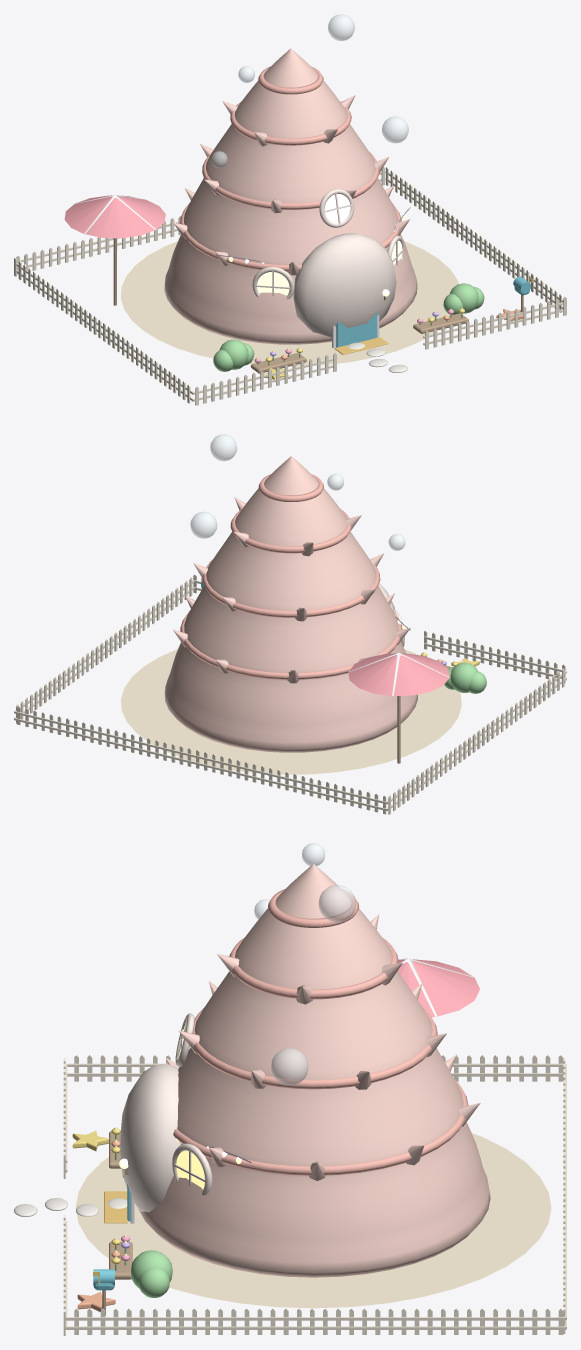
The model's file is building_ocean_L09.glb.
3 views of the same model, one above another, from view 1: azimuth 30°, elevation 25°; view 2: azimuth 150°, elevation 25°; view 3: azimuth 270°, elevation 25° (orthographic). The views are drawn at different scales.
Parts seen in each view (by area): view 1: Body, ocean_L9, object 2; view 2: Body, ocean_L9; view 3: Body, ocean_L9.
Boxes of the visible parts, x1=… form: Body: x1=64, y1=14, x2=522, y2=382; ocean_L9: x1=14, y1=166, x2=566, y2=405; object 2: x1=324, y1=194, x2=350, y2=223; Body: x1=121, y1=434, x2=479, y2=774; ocean_L9: x1=14, y1=574, x2=566, y2=814; Body: x1=72, y1=843, x2=551, y2=1311; ocean_L9: x1=14, y1=1055, x2=566, y2=1335.
Size of the model in its own units: 25.35 by 17.2 by 23.24.
